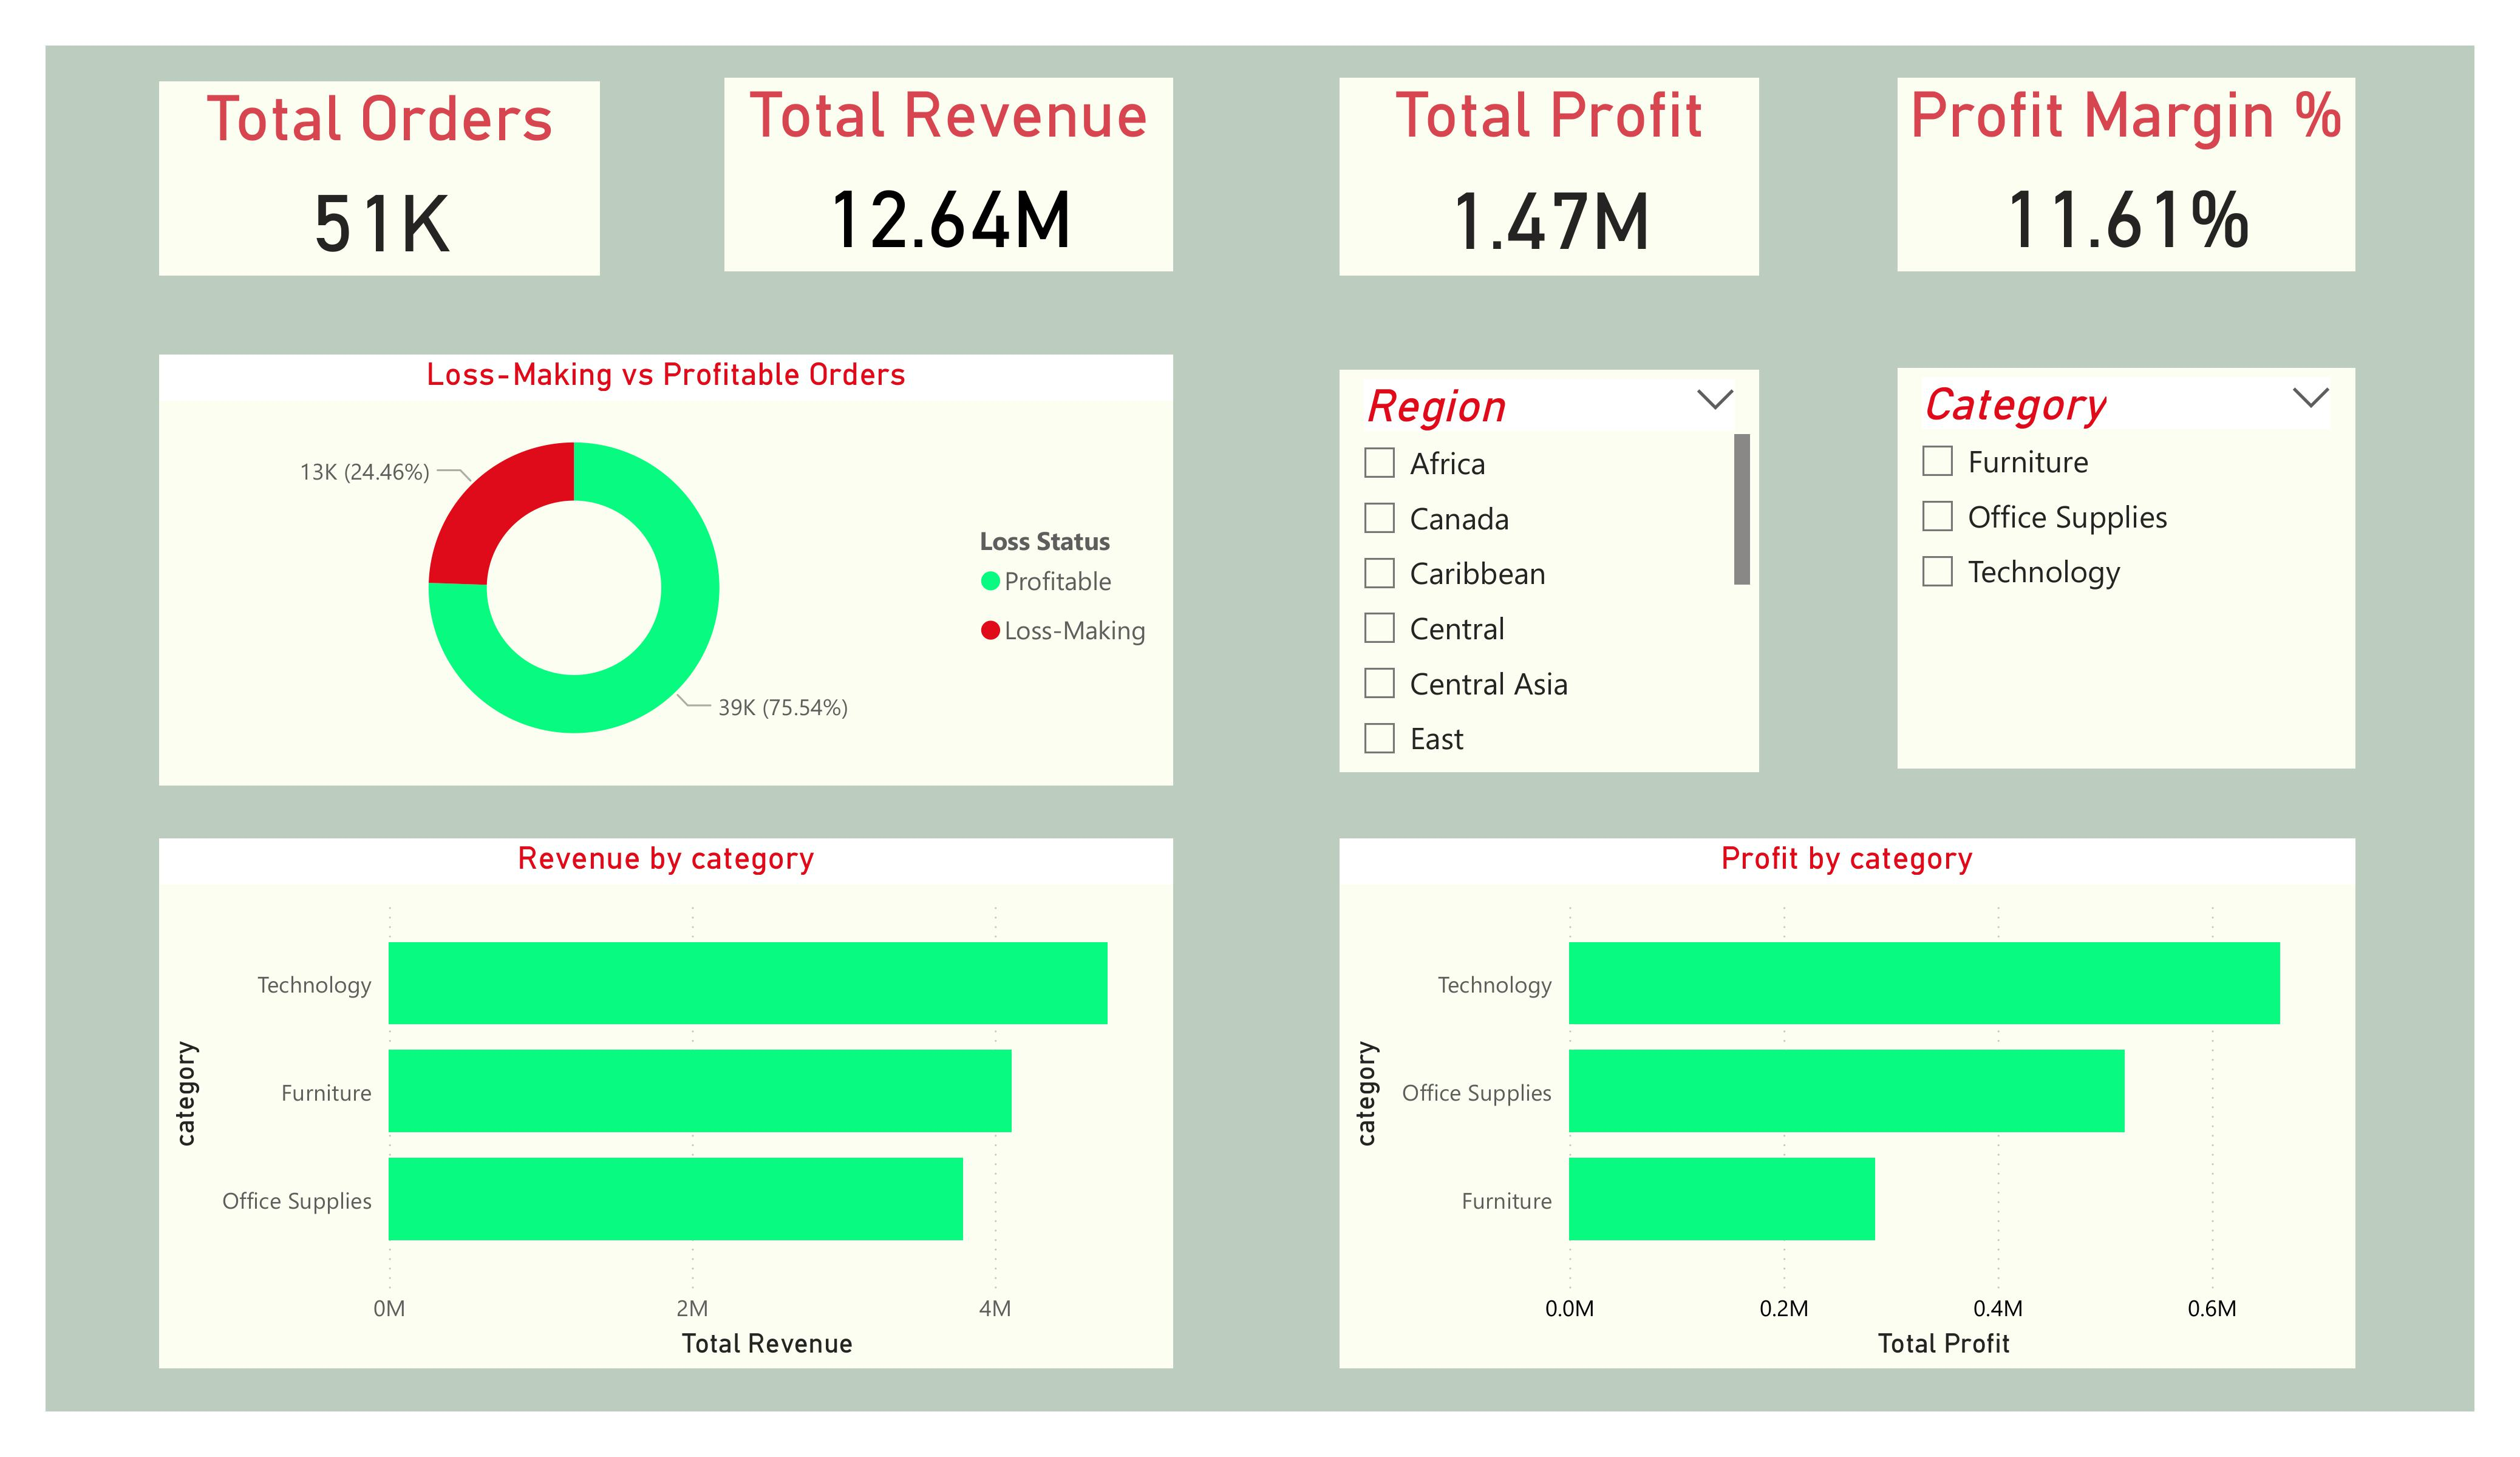

The dashboard page shown, as its layout file describes it:
{"tool":"powerbi","page":{"name":"Executive Overview","canvas":[1280,720],"ordinal":0},"visuals":[{"type":"card","title":"Total Revenue","fields":{"Values":["superstore_cleaned.Total Revenue"]},"box":[358.1,17.3,235.9,102.1],"z":0},{"type":"card","title":"Total Profit","fields":{"Values":["superstore_cleaned.Total Profit"]},"box":[681.7,17.3,221.5,103.5],"z":1000},{"type":"card","title":"Profit Margin %","fields":{"Values":["superstore_cleaned.Profit Margin %"]},"box":[976.5,17.3,240.2,102.1],"z":2000},{"type":"card","title":"Total Orders","fields":{"Values":["superstore_cleaned.Total Orders"]},"box":[60.4,18.7,231.5,102.1],"z":3000},{"type":"clusteredBarChart","title":"Revenue by category","fields":{"Category":["superstore_cleaned.category"],"Y":["superstore_cleaned.Total Revenue"]},"box":[60.4,418.5,533.5,279],"z":4000},{"type":"clusteredBarChart","title":"Profit by category","fields":{"Category":["superstore_cleaned.category"],"Y":["superstore_cleaned.Total Profit"]},"box":[681.7,418.5,535,279],"z":5000},{"type":"donutChart","title":"Loss-Making vs Profitable Orders","fields":{"Y":["superstore_cleaned.Total Orders"],"Category":["superstore_cleaned.Loss Status"]},"box":[60.4,162.5,533.5,227.2],"z":6000},{"type":"slicer","fields":{"Values":["superstore_cleaned.category"]},"box":[976.5,169.7,240.2,211.4],"z":7000},{"type":"slicer","fields":{"Values":["superstore_cleaned.region"]},"box":[681.7,171.1,221.5,211.4],"z":8000}]}

Visuals, with their boxes in screenshot pixels (x1, y1, x2, y2):
"Total Revenue" card: {"left": 725, "top": 78, "right": 1173, "bottom": 272}
"Total Profit" card: {"left": 1339, "top": 78, "right": 1760, "bottom": 274}
"Profit Margin %" card: {"left": 1899, "top": 78, "right": 2354, "bottom": 272}
"Total Orders" card: {"left": 160, "top": 81, "right": 599, "bottom": 274}
"Revenue by category" clusteredBarChart: {"left": 160, "top": 840, "right": 1173, "bottom": 1369}
"Profit by category" clusteredBarChart: {"left": 1339, "top": 840, "right": 2354, "bottom": 1369}
"Loss-Making vs Profitable Orders" donutChart: {"left": 160, "top": 354, "right": 1173, "bottom": 785}
slicer - superstore_cleaned.category: {"left": 1899, "top": 367, "right": 2354, "bottom": 769}
slicer - superstore_cleaned.region: {"left": 1339, "top": 370, "right": 1760, "bottom": 771}
